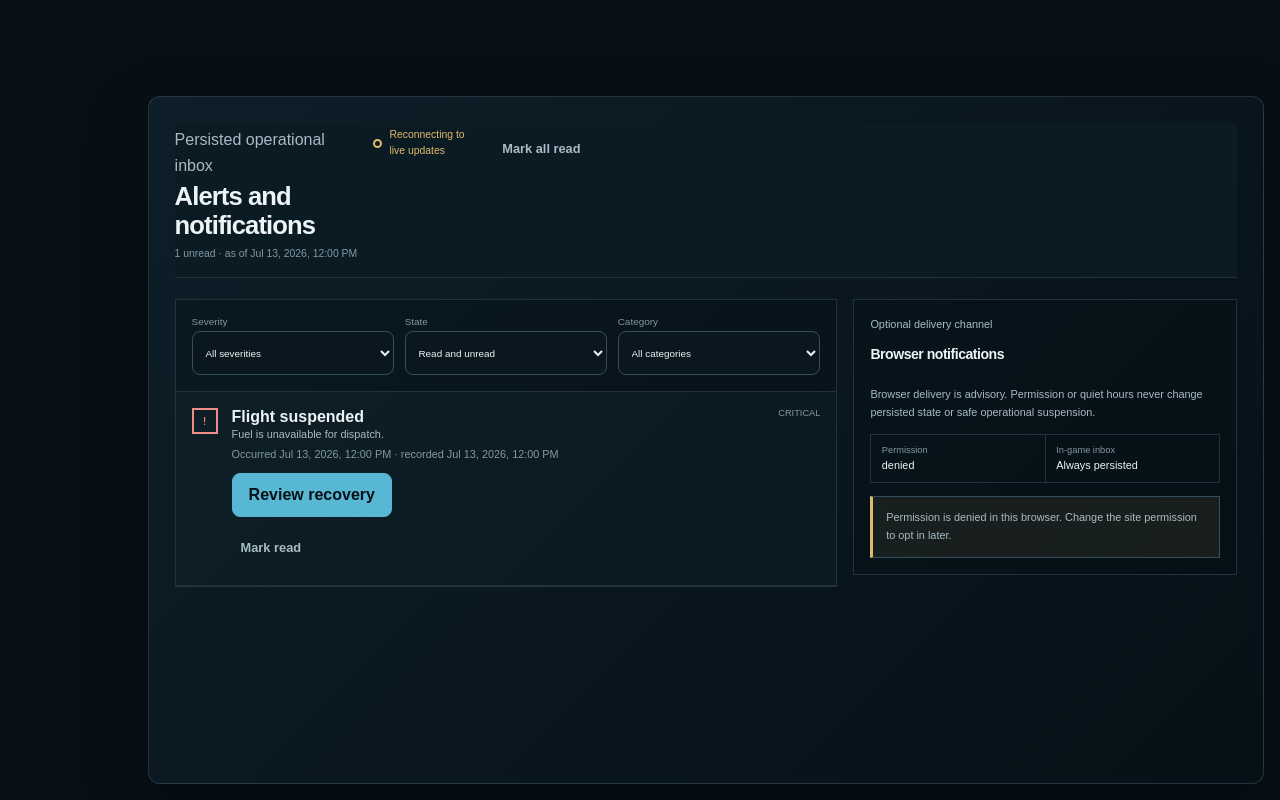
ticket 21 workspaces › filters the persisted inbox and refreshes only after authoritative read mutations
This screenshot has width=1280, height=800.
Expected: the text "Flight suspended" is shown, [232, 408, 364, 426]
Click the button "Mark read". click: coordinates (257, 547)
box: [232, 525, 820, 569]
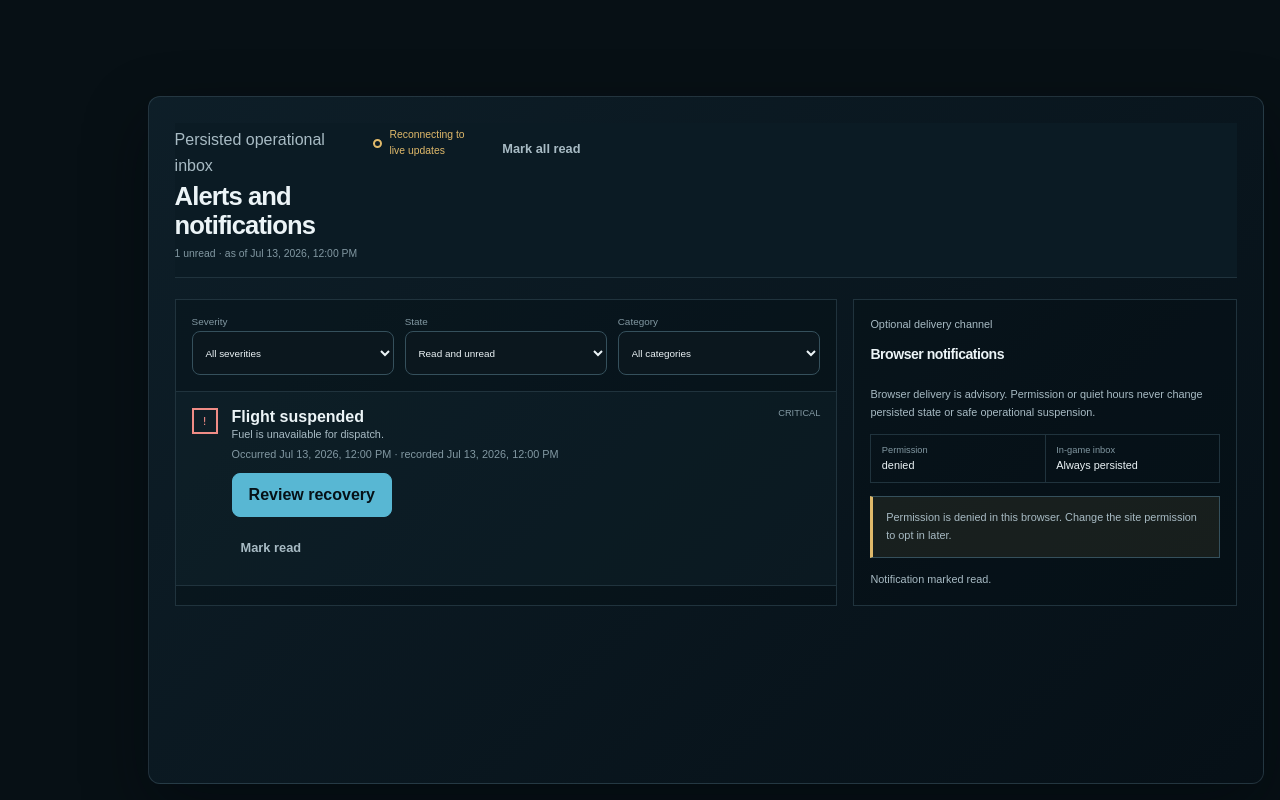
Select "Warning" in the dropdown labelled "Severity". click: coordinates (293, 353)
box: [192, 331, 394, 375]
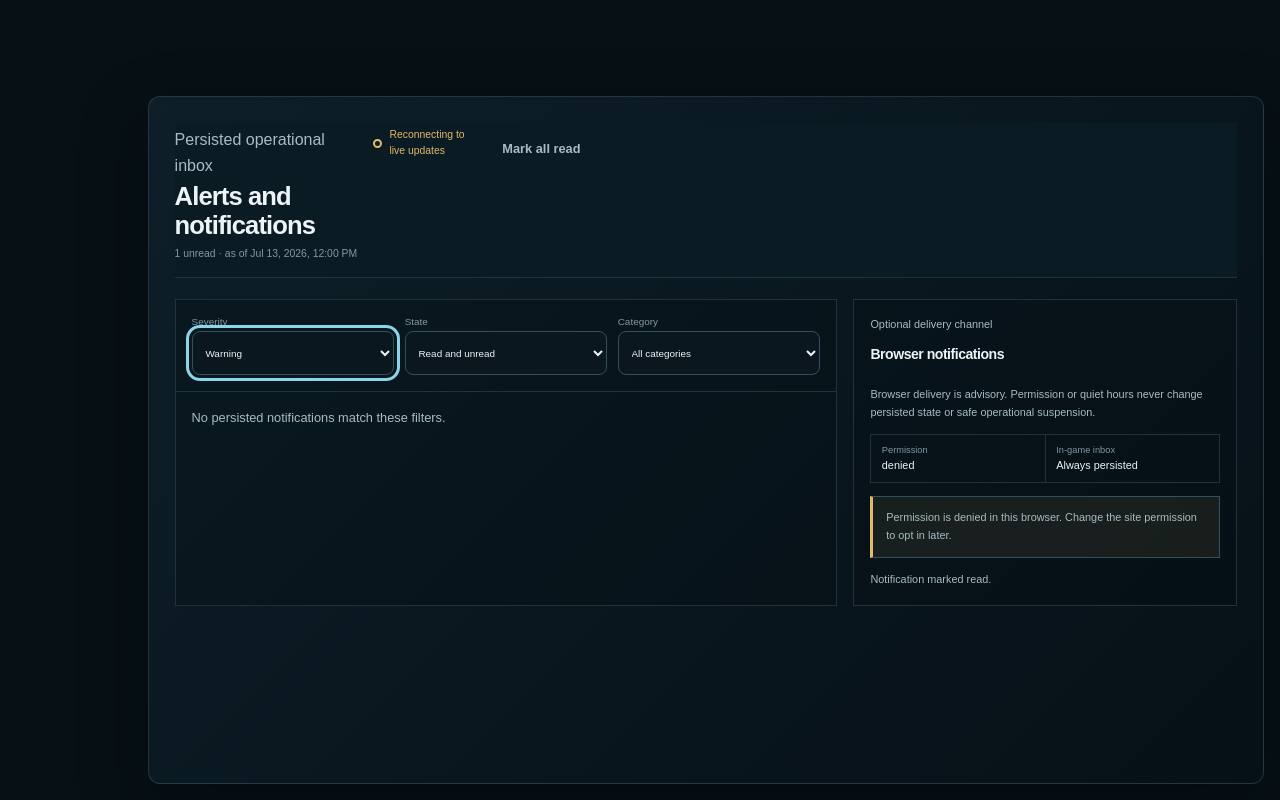
Expected: the text "No persisted notifications match these filters." is shown, [192, 410, 446, 425]
